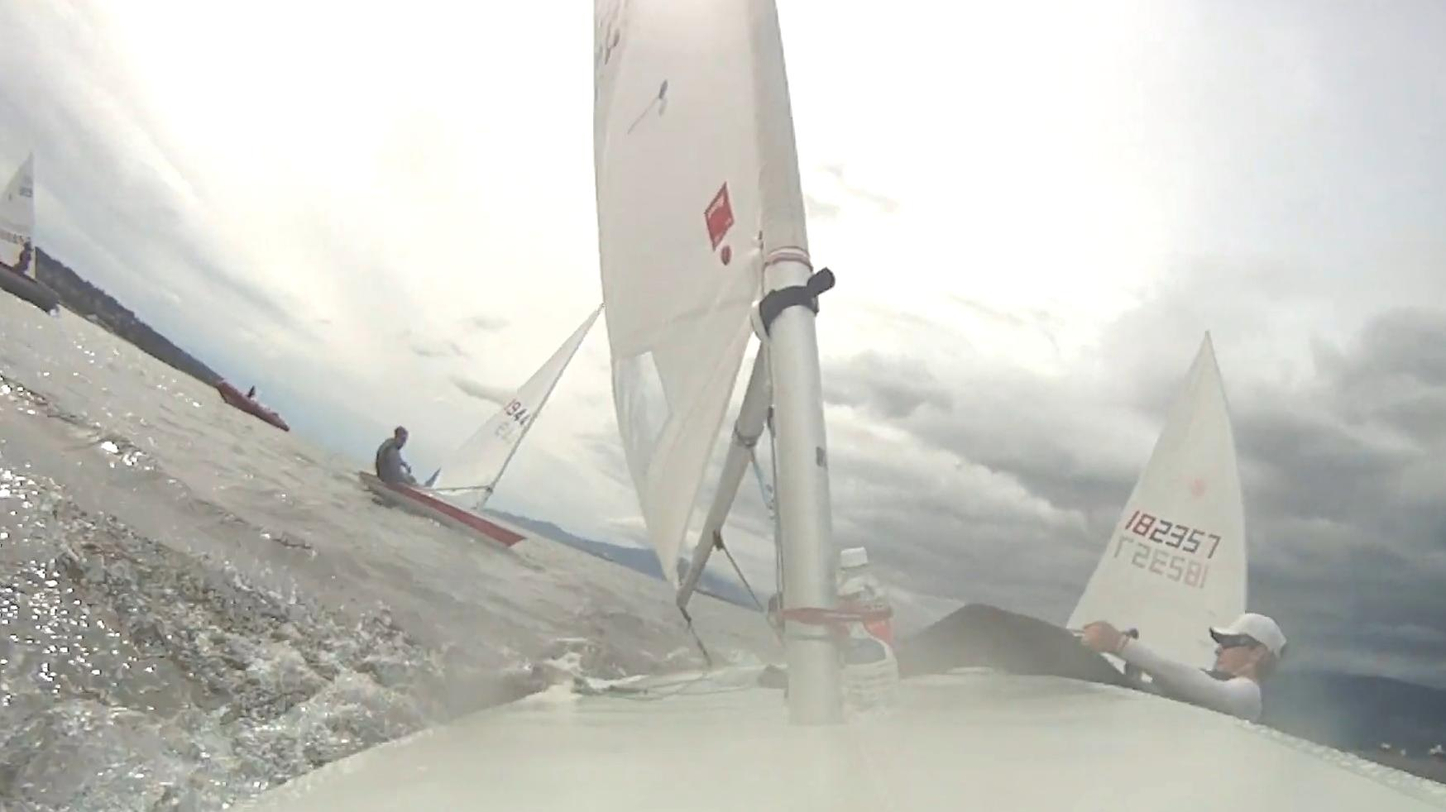boat: (226, 0, 1446, 812)
land: (0, 232, 290, 432), (1261, 675, 1446, 760), (480, 509, 667, 581), (695, 572, 743, 606)
person: (898, 604, 1286, 721)
sea: (0, 286, 783, 812)
sky: (775, 0, 1446, 690), (0, 0, 650, 550)
